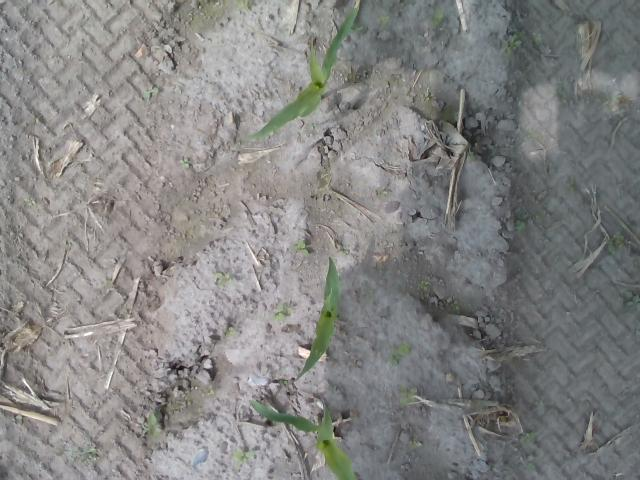Maize: (248, 0, 362, 144), (244, 392, 359, 479), (292, 256, 344, 385)
Weeds: (518, 430, 544, 474), (66, 446, 102, 468), (498, 32, 528, 54), (389, 340, 410, 368), (144, 410, 162, 439), (398, 386, 420, 406), (606, 231, 626, 253), (428, 5, 447, 28), (270, 302, 292, 321), (233, 449, 254, 468), (288, 238, 310, 256), (214, 269, 232, 287), (622, 288, 640, 306), (141, 86, 159, 103), (512, 216, 526, 232), (235, 0, 252, 13), (418, 277, 432, 292), (23, 196, 36, 208), (223, 326, 237, 336), (376, 15, 391, 24), (178, 158, 190, 168), (12, 414, 22, 424)
